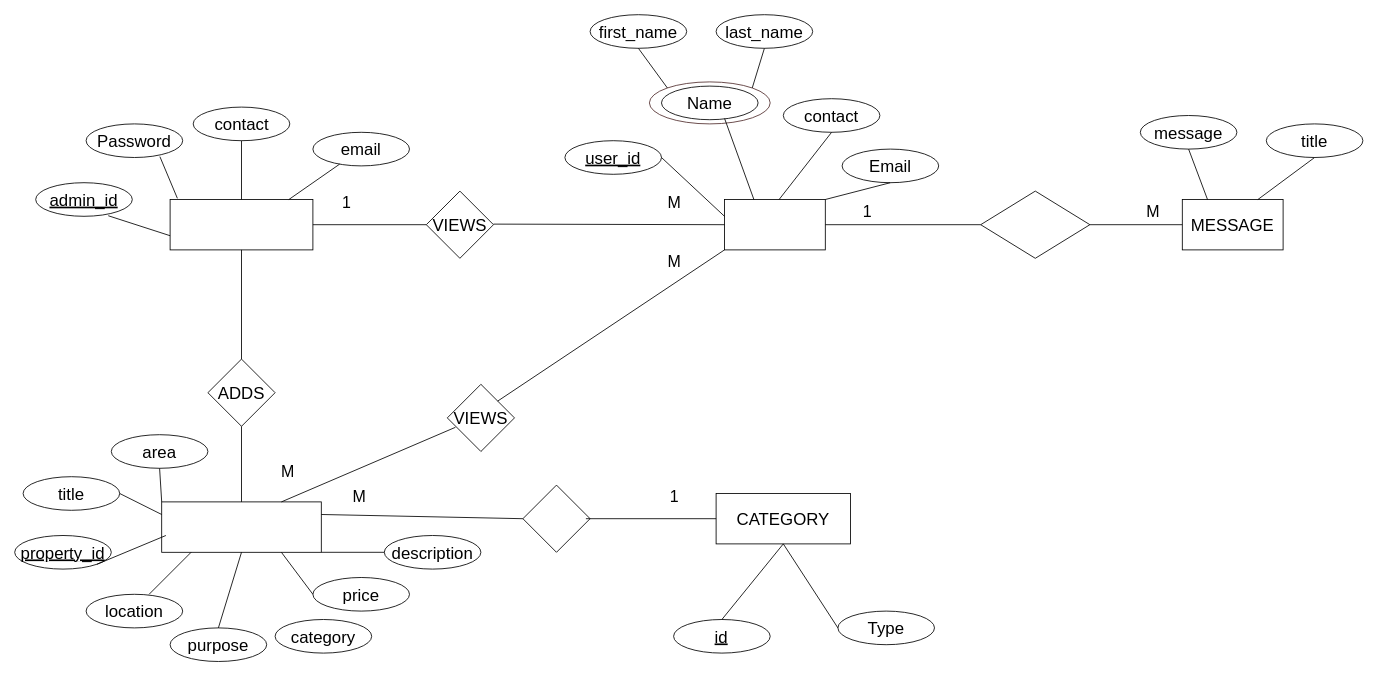
Some shapes in this 1378 by 676 pixel diagram are drawn without their labels. The centre of each missing label's shape, as x and y in pixels:
ADMIN: (x=241, y=224)
HAS: (x=556, y=518)
PROPERTY: (x=241, y=526)
USER: (x=774, y=224)
WRITES: (x=1035, y=224)
